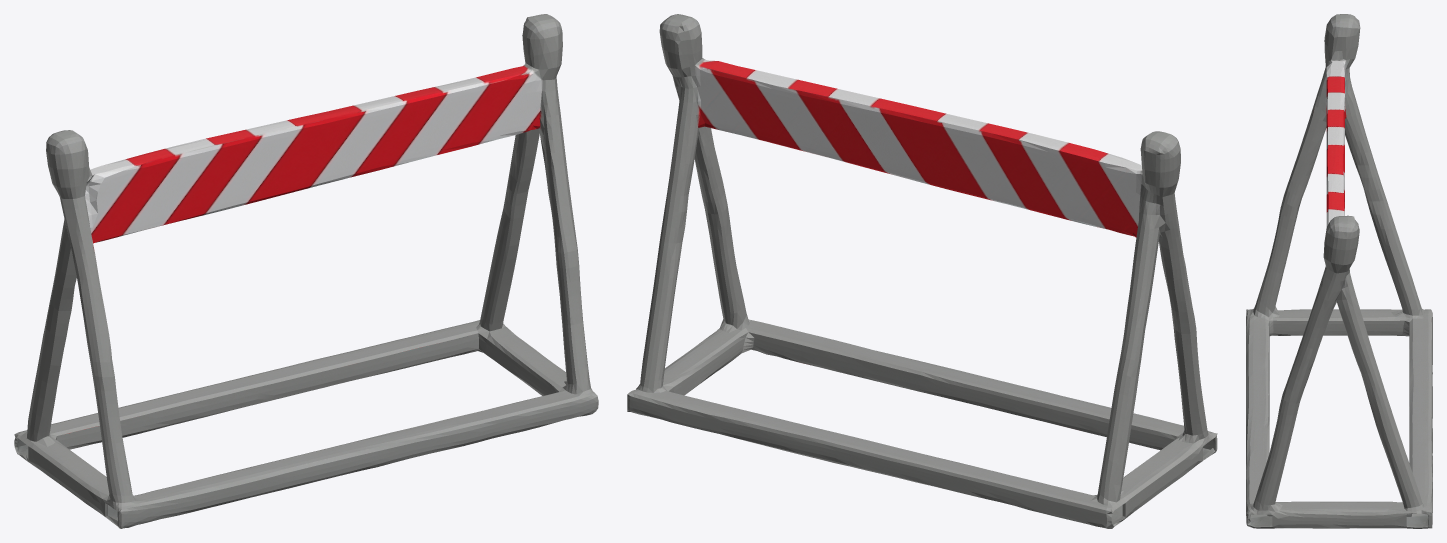
3 renders of one model, left to right at view 1: azimuth 30°, elevation 25°; view 2: azimuth 150°, elevation 25°; view 3: azimuth 270°, elevation 25°, orthographic. The views are drawn at different scales.
Parts seen in each view (by area): view 1: Mesh_0; view 2: Mesh_0; view 3: Mesh_0.
Boxes of the visible parts, x1,y1,x2,y2 form: Mesh_0: (14, 14, 598, 528); Mesh_0: (627, 14, 1217, 528); Mesh_0: (1246, 14, 1432, 528).
Bounding box in the file's own units: 1.5 × 1 × 0.5459.
1 material, 1 textured.
